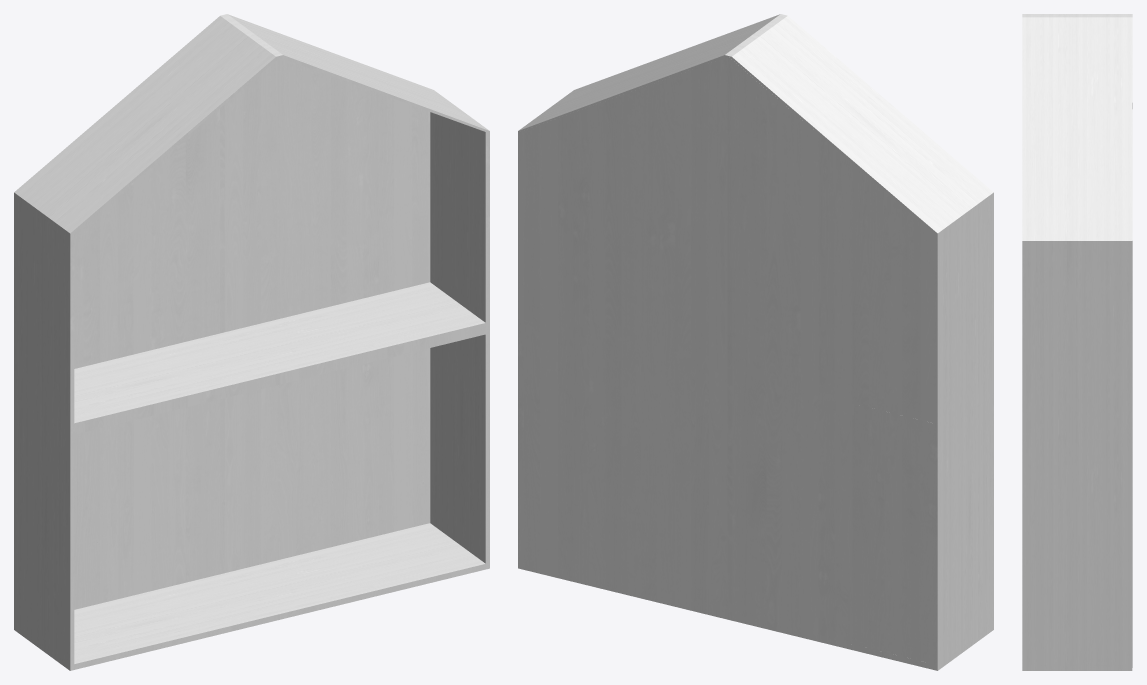
File: House shelf 1.fbx
The picture shows the model from 3 angles, left to right: view 1: azimuth 30°, elevation 25°; view 2: azimuth 150°, elevation 25°; view 3: azimuth 270°, elevation 25°; orthographic projection.
Parts seen in each view (by area): view 1: House shelf 1; view 2: House shelf 1; view 3: House shelf 1.
Part boxes in pixels (box(x1,y1,x2,y2)): House shelf 1: box(14, 14, 489, 670); House shelf 1: box(518, 14, 993, 670); House shelf 1: box(1022, 14, 1132, 670).
Bounding box in the file's own units: 50.3 × 64.57 × 11.65.
Materials: 1 (1 with a texture image).
